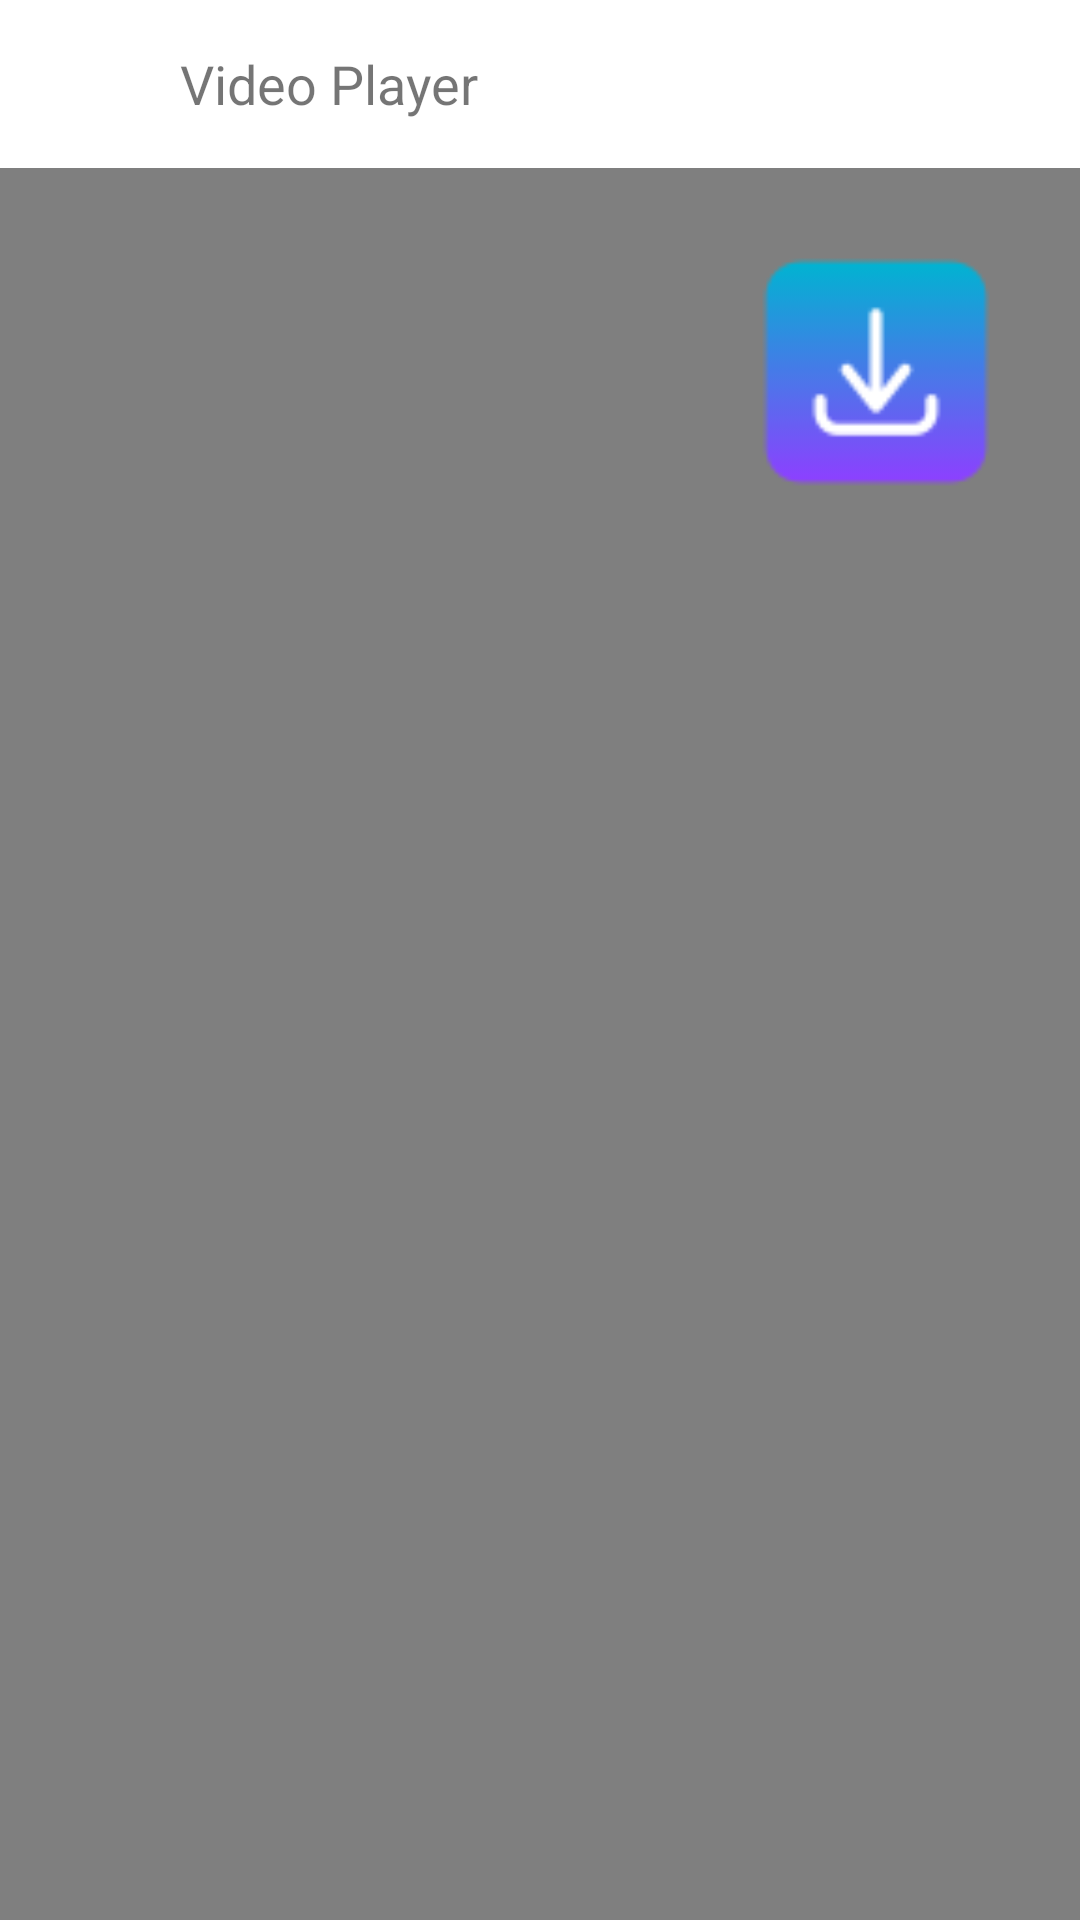

Where to tap for icons on this 1080*1920 app screen, as [x,y]:
download: [876,372]
